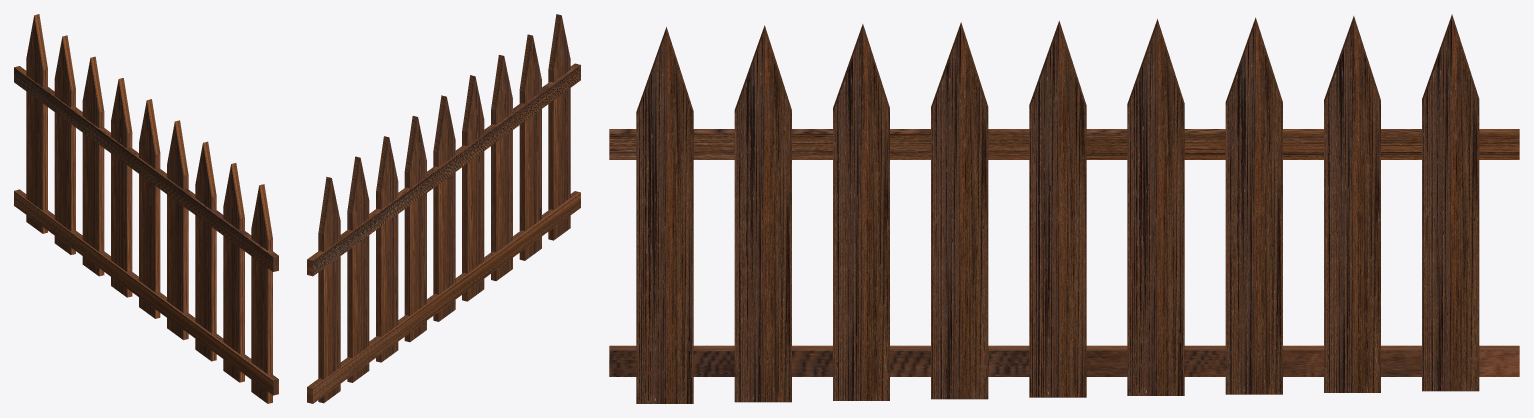
Rendered from fence.fbx.
3 renders of one model, left to right at view 1: azimuth 30°, elevation 25°; view 2: azimuth 150°, elevation 25°; view 3: azimuth 270°, elevation 25°, orthographic. The views are drawn at different scales.
Parts seen in each view (by area): view 1: Cube, Cube.002, Cube.001; view 2: Cube, Cube.001, Cube.002; view 3: Cube, Cube.002, Cube.001.
Boxes of the visible parts, bbox=[...] form: Cube: bbox=[26, 14, 272, 403]; Cube.002: bbox=[14, 189, 278, 395]; Cube.001: bbox=[14, 66, 278, 271]; Cube: bbox=[318, 14, 570, 403]; Cube.001: bbox=[307, 63, 580, 276]; Cube.002: bbox=[307, 191, 580, 403]; Cube: bbox=[636, 14, 1479, 403]; Cube.002: bbox=[609, 345, 1519, 376]; Cube.001: bbox=[609, 129, 1519, 159].
Size of the model in its own units: 9.5 by 267 by 573.
1 material, 1 textured.
